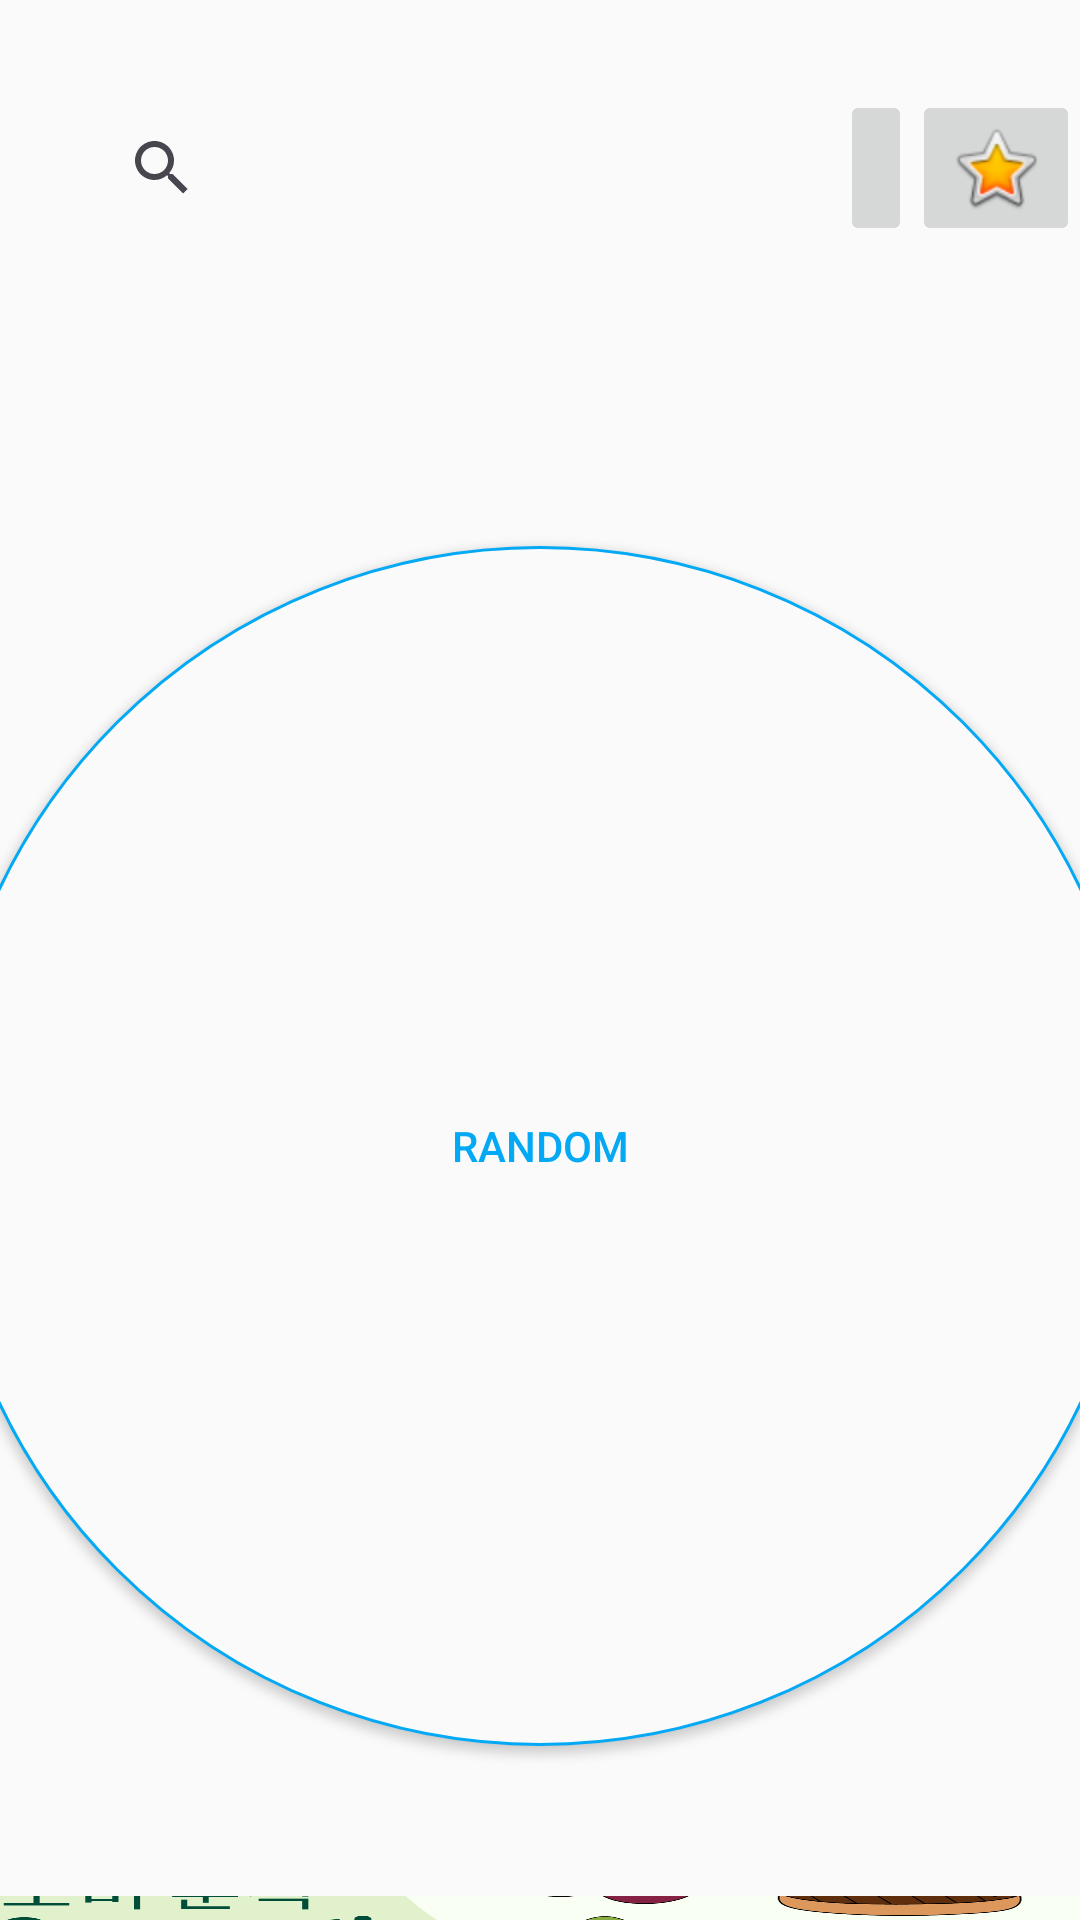

Point at icon controls on the screen. Image size 1080px×1920px, points as (x,y).
단골집: (996,168)
